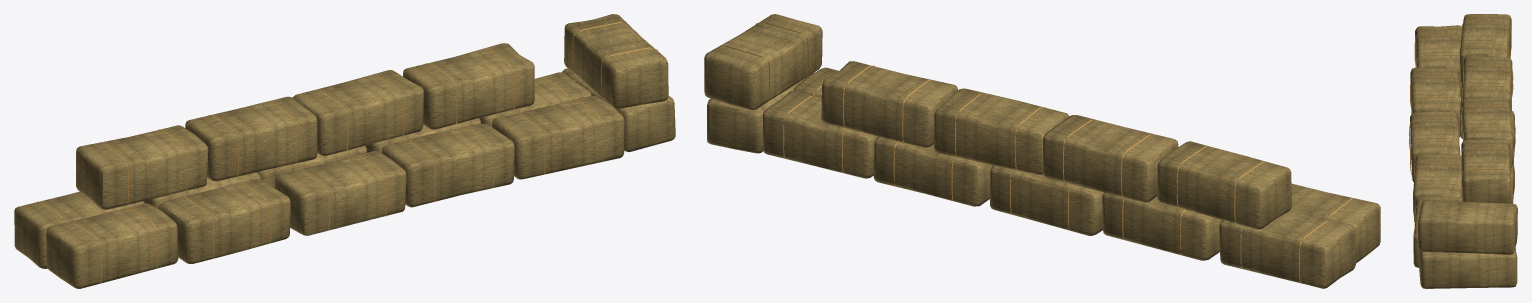
The model's file is hay-stage.glb.
3 views of the same model, side by side, from view 1: azimuth 30°, elevation 25°; view 2: azimuth 150°, elevation 25°; view 3: azimuth 270°, elevation 25° (orthographic). The views are drawn at different scales.
Visible parts, largest first — view 1: hay_stage; view 2: hay_stage; view 3: hay_stage.
Part boxes in pixels (x1,y1,x2,y2): hay_stage: [14, 14, 675, 288]; hay_stage: [704, 14, 1380, 288]; hay_stage: [1409, 14, 1517, 288].
Bounding box in the file's own units: 5.29 × 0.7403 × 1.04.
Materials: 1 (1 with a texture image).
